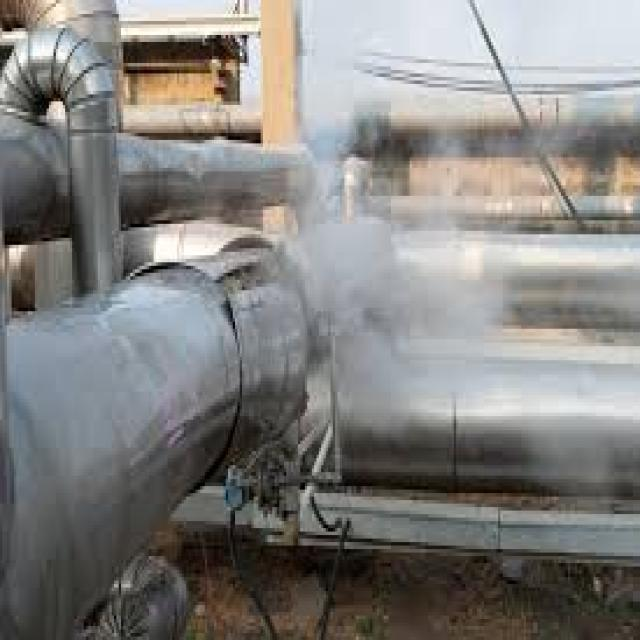corrosion: (273, 72, 435, 390)
